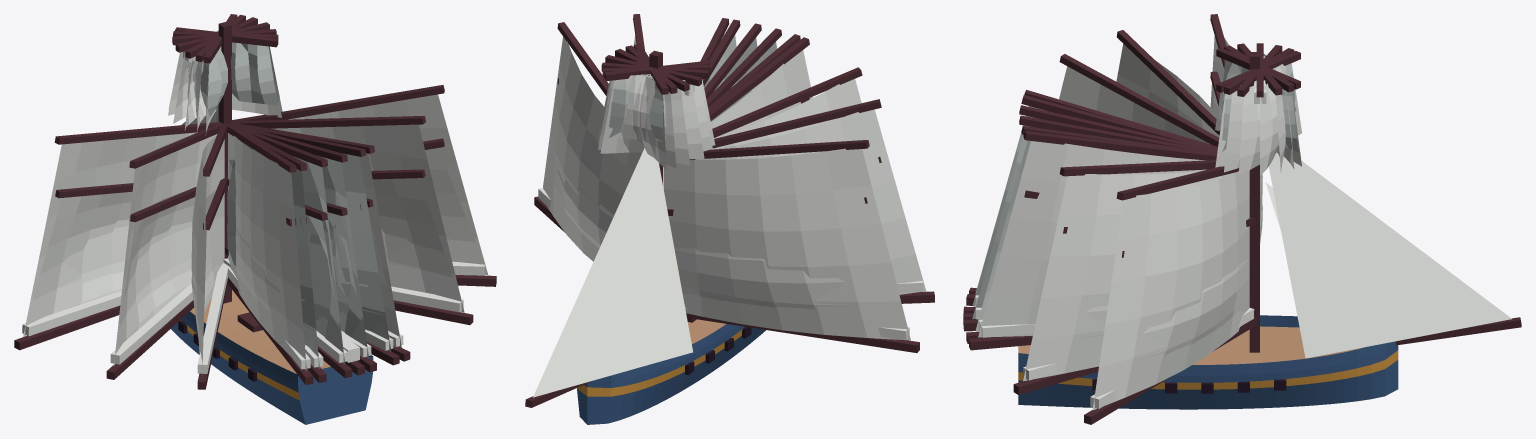
The model's file is ship.royal_sloop.glb.
The picture shows the model from 3 angles, left to right: view 1: azimuth 30°, elevation 25°; view 2: azimuth 150°, elevation 25°; view 3: azimuth 270°, elevation 25°; orthographic projection. The views are drawn at different scales.
Parts seen in each view (by area): view 1: full_close_s_main, hull, full_run_main, full_broad_s_main, half_run_main, half_beam_p_main, full_beam_p_main, full_irons_p1_main, full_beam_s_main, half_broad_s_main, full_broad_p_main, full_irons_s0_main (+46 smaller); view 2: full_run_main, full_run_jib, full_broad_p_main, full_broad_s_main, half_run_main, hull, full_close_s_main, full_beam_s_main, half_broad_p_main, full_broad_s_gaff, full_beam_s_gaff, full_run_gaff (+26 smaller); view 3: full_broad_p_jib, full_broad_p_main, hull, full_beam_p_main, full_close_p_main, half_broad_p_main, bulwark, full_beam_s_main, full_broad_s_main, mast, full_beam_s_gaff, full_close_p_gaff (+23 smaller).
Part boxes in pixels (x1,y1,x2,y2): full_close_s_main: [228, 133, 306, 371]; hull: [171, 290, 372, 424]; full_run_main: [23, 132, 197, 336]; full_broad_s_main: [113, 134, 217, 366]; half_run_main: [26, 191, 132, 325]; half_beam_p_main: [372, 178, 460, 301]; full_beam_p_main: [271, 124, 464, 312]; full_irons_p1_main: [333, 153, 391, 351]; full_beam_s_main: [191, 135, 224, 374]; half_broad_s_main: [115, 192, 195, 353]; full_broad_p_main: [288, 94, 487, 274]; full_irons_s0_main: [292, 156, 344, 364]; full_run_main: [664, 148, 910, 340]; full_run_jib: [533, 148, 692, 397]; full_broad_p_main: [543, 36, 641, 261]; full_broad_s_main: [695, 109, 926, 294]; half_run_main: [674, 248, 854, 309]; hull: [577, 319, 765, 424]; full_close_s_main: [663, 50, 812, 189]; full_beam_s_main: [713, 79, 861, 149]; half_broad_p_main: [555, 170, 613, 247]; full_broad_s_gaff: [712, 99, 881, 148]; full_beam_s_gaff: [712, 67, 862, 137]; full_run_gaff: [689, 140, 869, 159]; full_broad_p_jib: [1268, 152, 1511, 358]; full_broad_p_main: [1092, 170, 1249, 410]; hull: [1018, 326, 1398, 409]; full_beam_p_main: [1023, 171, 1235, 381]; full_close_p_main: [978, 141, 1206, 337]; half_broad_p_main: [1135, 259, 1249, 360]; bulwark: [1018, 315, 1395, 375]; full_beam_s_main: [1059, 66, 1210, 144]; full_broad_s_main: [1116, 44, 1219, 137]; mast: [1249, 52, 1259, 352]; full_beam_s_gaff: [1059, 54, 1219, 146]; full_close_p_gaff: [1023, 131, 1216, 160].
Bounding box in the file's own units: 3.01 × 2.1 × 3.17.
